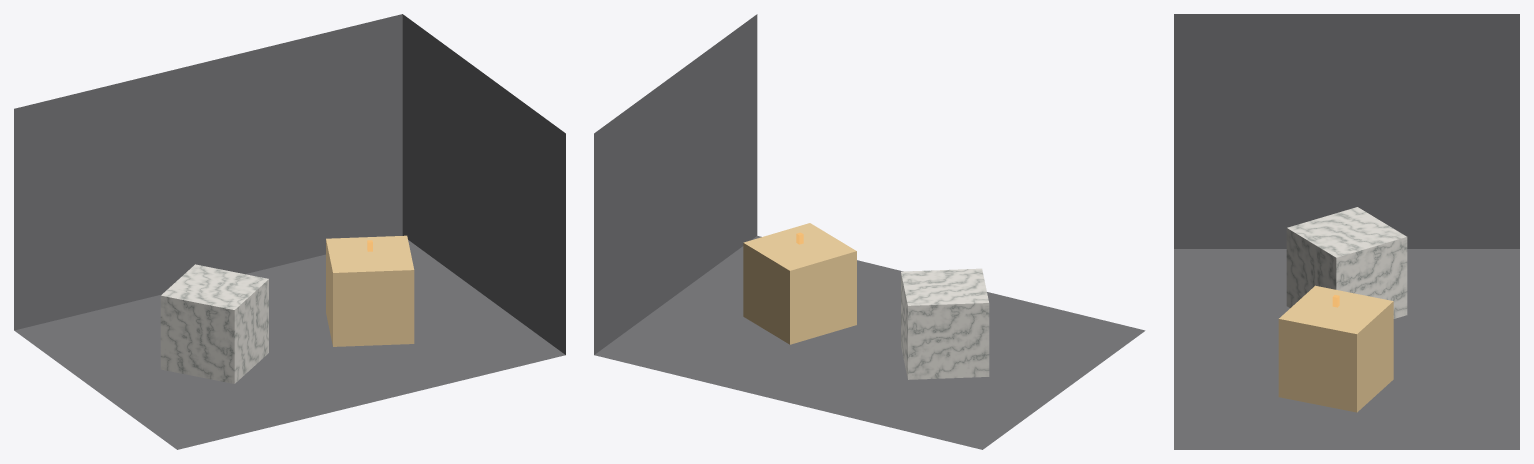
The picture shows the model from 3 angles, left to right: view 1: azimuth 30°, elevation 25°; view 2: azimuth 150°, elevation 25°; view 3: azimuth 270°, elevation 25°; orthographic projection. The views are drawn at different scales.
Parts seen in each view (by area): view 1: WallBack, Floor, WallRight, MarbleCube, WaxCube; view 2: Floor, WallRight, WaxCube, MarbleCube; view 3: WallLeft, Floor, WaxCube, MarbleCube.
Part boxes in pixels (x1,y1,x2,y2): WallBack: (14,14,402,330); Floor: (14,240,565,449); WallRight: (402,14,565,354); MarbleCube: (160,264,268,383); WaxCube: (326,235,414,346); Floor: (594,236,1145,449); WallRight: (594,14,757,354); WaxCube: (743,223,856,344); MarbleCube: (901,268,989,379); WallLeft: (1174,14,1519,248); Floor: (1174,249,1519,449); WaxCube: (1278,285,1393,412); MarbleCube: (1286,207,1407,318).
Size of the model in its own units: 4.4 by 2.4 by 3.2.
Materials: 6 (1 with a texture image).
